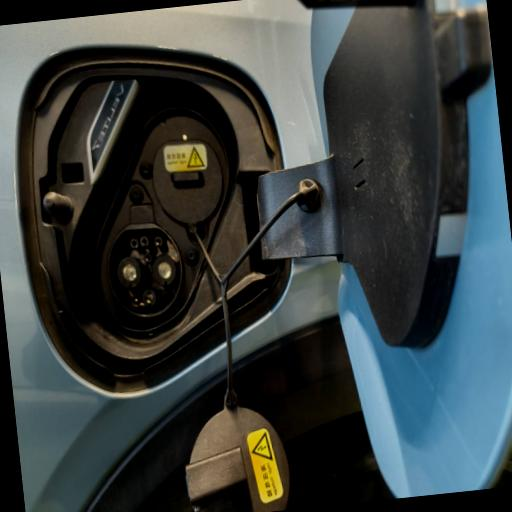DC_hole: (115, 254, 144, 290), (150, 252, 178, 286)
PE: (141, 287, 157, 307)
charging_port: (103, 220, 188, 322)
